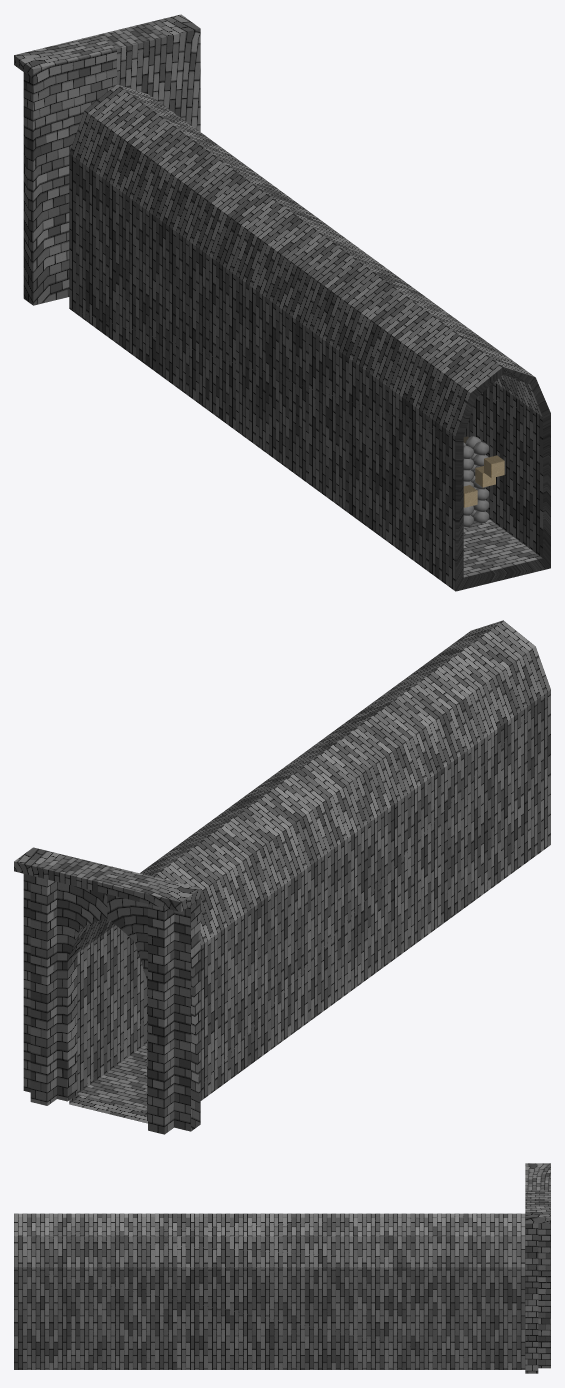
The model's file is Haidouv2.fbx.
The picture shows the model from 3 angles, top to bottom: view 1: azimuth 30°, elevation 25°; view 2: azimuth 150°, elevation 25°; view 3: azimuth 270°, elevation 25°; orthographic projection. The views are drawn at different scales.
Parts seen in each view (by area): view 1: Cube.009, rock.012; view 2: Cube.009; view 3: Cube.009.
Part boxes in pixels (x1,y1,x2,y2): Cube.009: [14, 14, 550, 591]; rock.012: [463, 442, 489, 526]; Cube.009: [14, 620, 550, 1134]; Cube.009: [14, 1163, 550, 1373].
Bounding box in the file's own units: 1000 × 1418 × 4200.
Materials: 3 (2 with a texture image).
